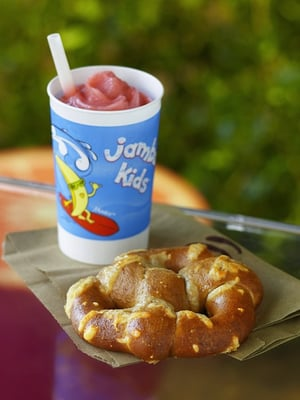salad: (47, 33, 76, 98)
